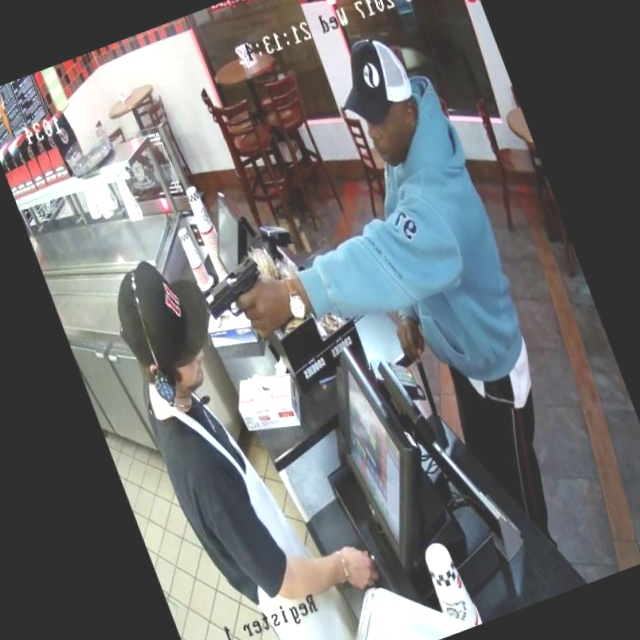gun: (180, 227, 300, 354)
